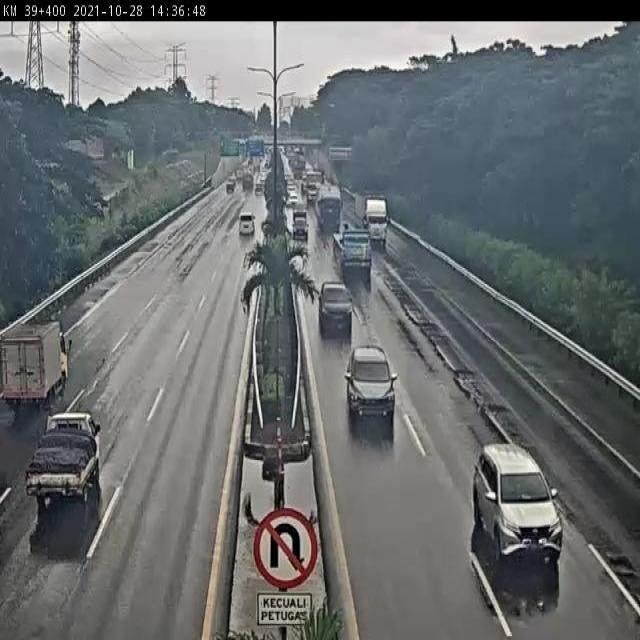Car: (471, 444, 565, 563), (26, 412, 102, 499), (344, 346, 398, 429), (317, 281, 353, 335), (334, 228, 372, 271), (236, 211, 256, 238), (292, 217, 310, 238)
Truck: (0, 316, 75, 408), (355, 189, 389, 246)
